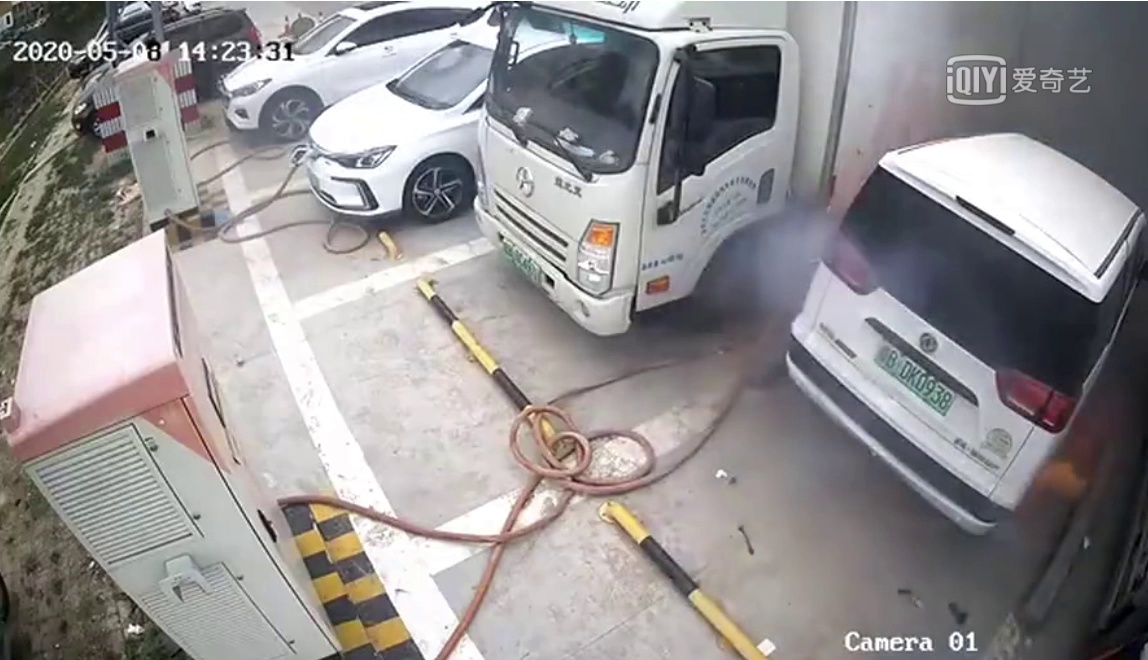smoke: (735, 197, 821, 379)
